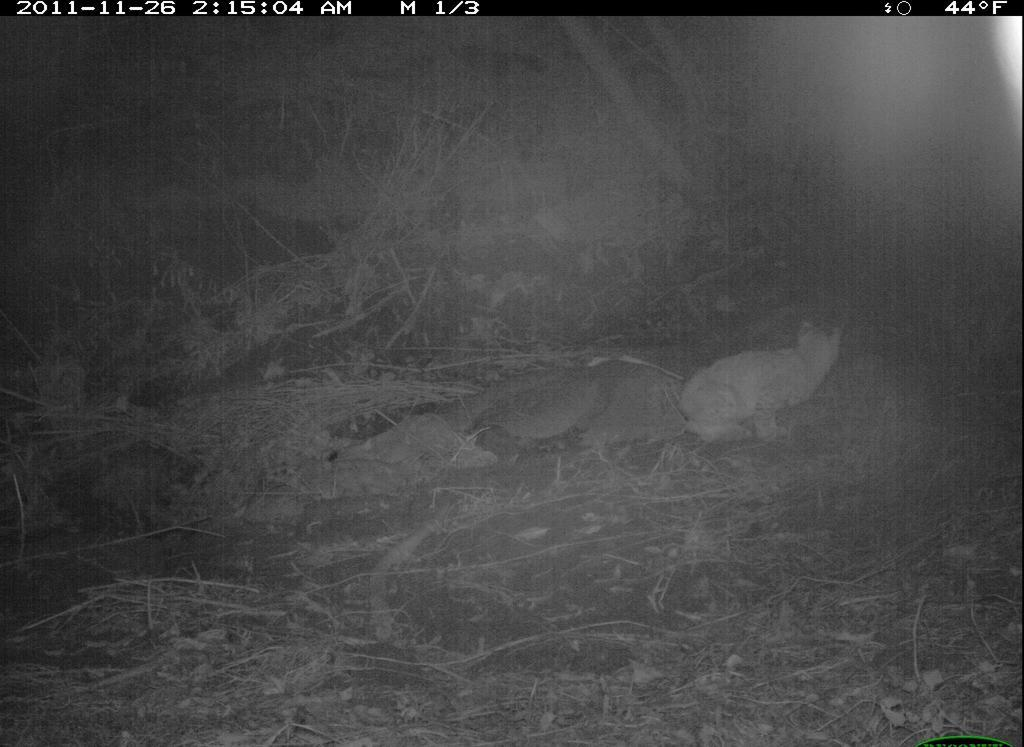bobcat: (672, 311, 852, 452)
